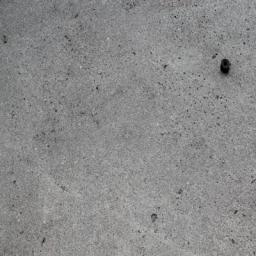FOD: (218, 53, 233, 76)
